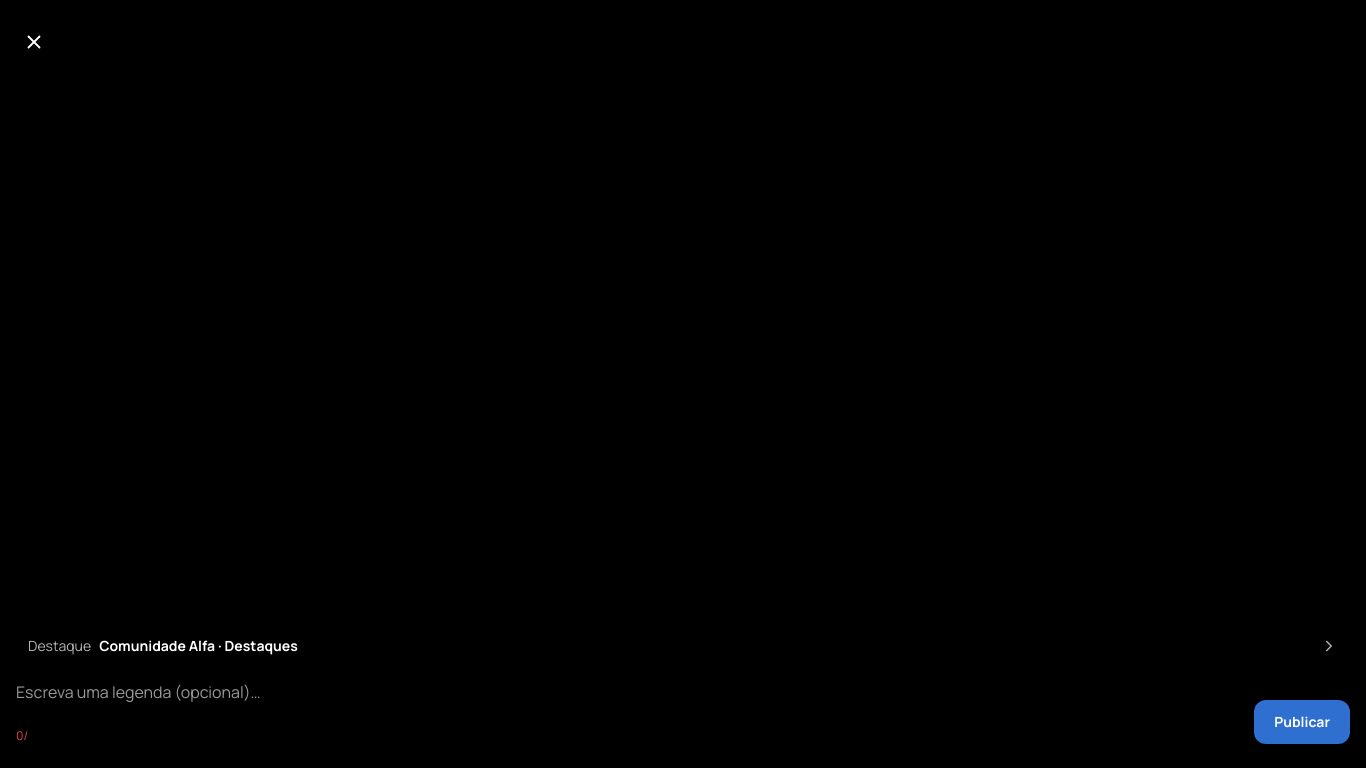
Test case: StoryComposer — "Destaque" (05.2-08, D-111..D-115, UI-D-68..UI-D-71) › 10. while a publish is in flight the row is disabled, so the destination cannot change mid-publish (UI E11 loading)
Click the button "Publicar" at (1302,722), box [1254,700,1350,744]
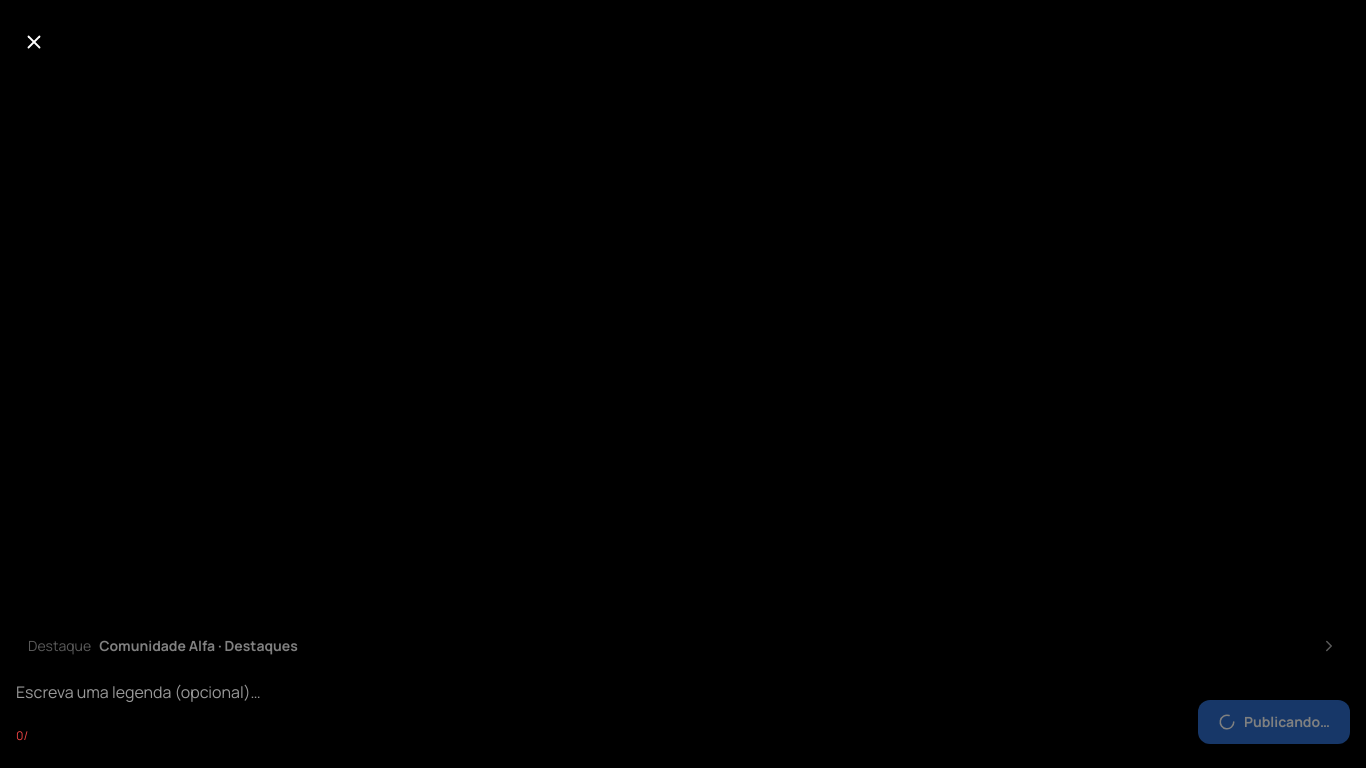
Result: the button "Destaque Comunidade Alfa · Destaques" is disabled at [16,624,1350,668]
